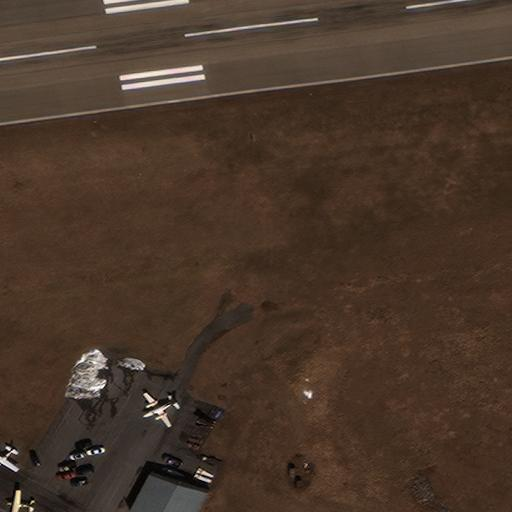Small Civil Transport: (142, 394, 175, 428), (6, 489, 33, 511), (0, 447, 15, 472)
